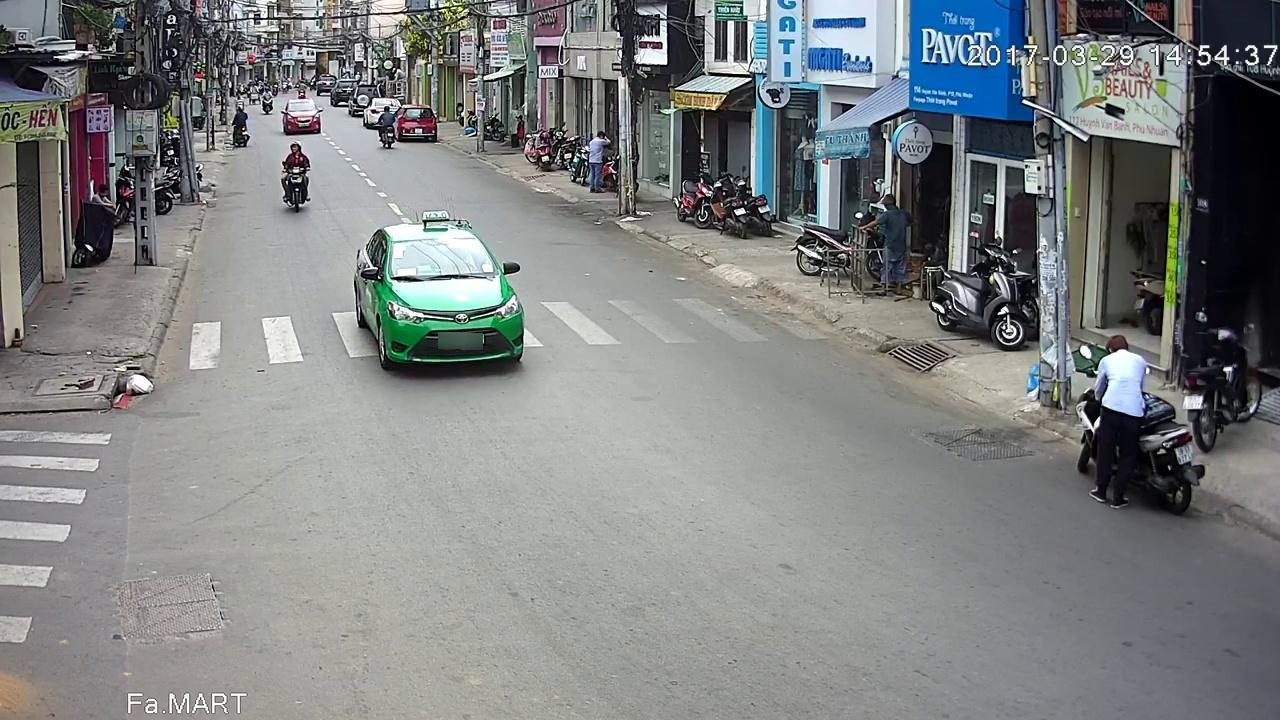xe hoi: (352, 211, 524, 371), (397, 102, 439, 140)
xe may: (279, 147, 311, 221), (379, 103, 398, 148)
